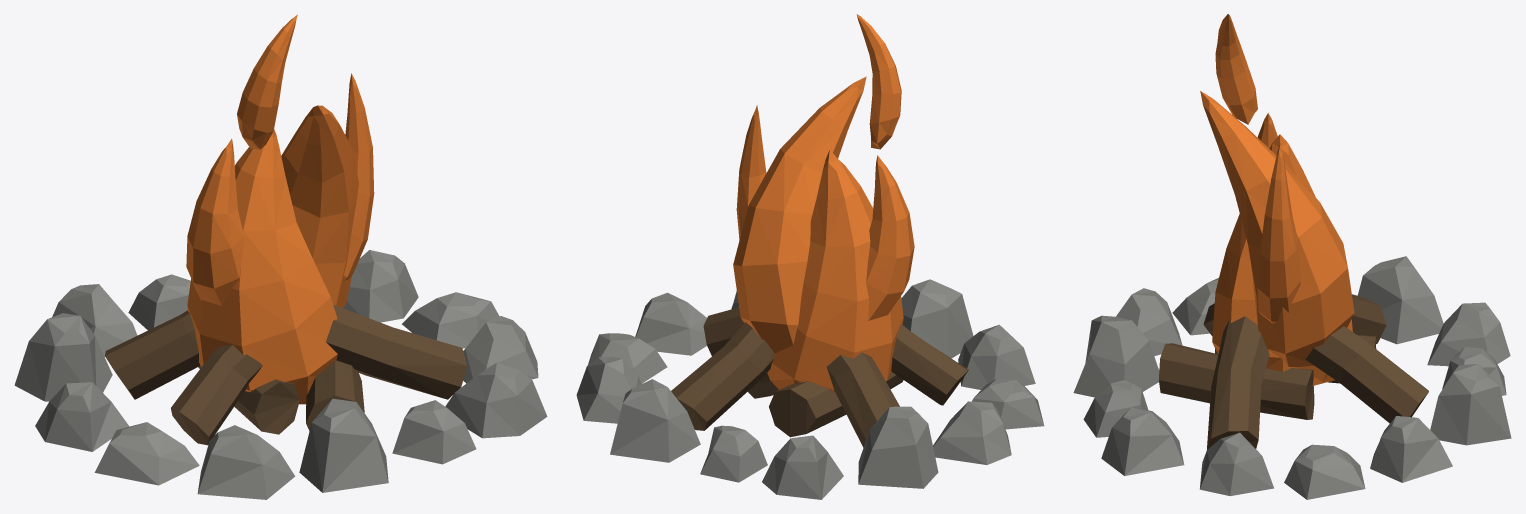
File: FH_Fire.fbx
The picture shows the model from 3 angles, left to right: view 1: azimuth 30°, elevation 25°; view 2: azimuth 150°, elevation 25°; view 3: azimuth 270°, elevation 25°; orthographic projection. The views are drawn at different scales.
Visible parts, largest first — view 1: Market Scene.003; view 2: Market Scene.003; view 3: Market Scene.003.
Boxes of the visible parts, x1,y1,x2,y2 form: Market Scene.003: [14, 14, 547, 499]; Market Scene.003: [576, 14, 1044, 499]; Market Scene.003: [1073, 14, 1511, 499].
Size of the model in its own units: 718 by 623 by 640.
